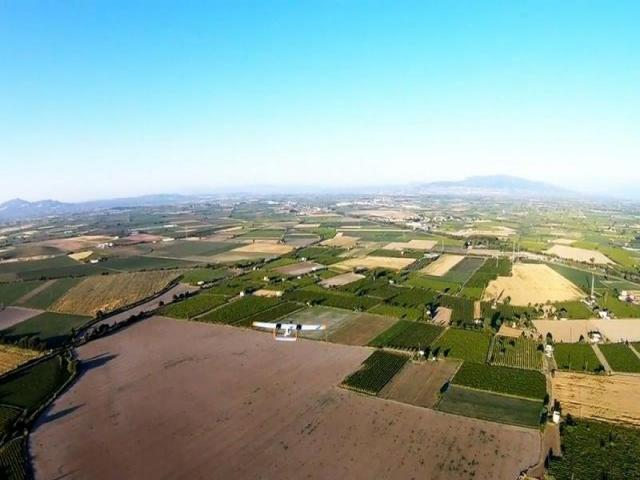hedef: (244, 311, 331, 349)
